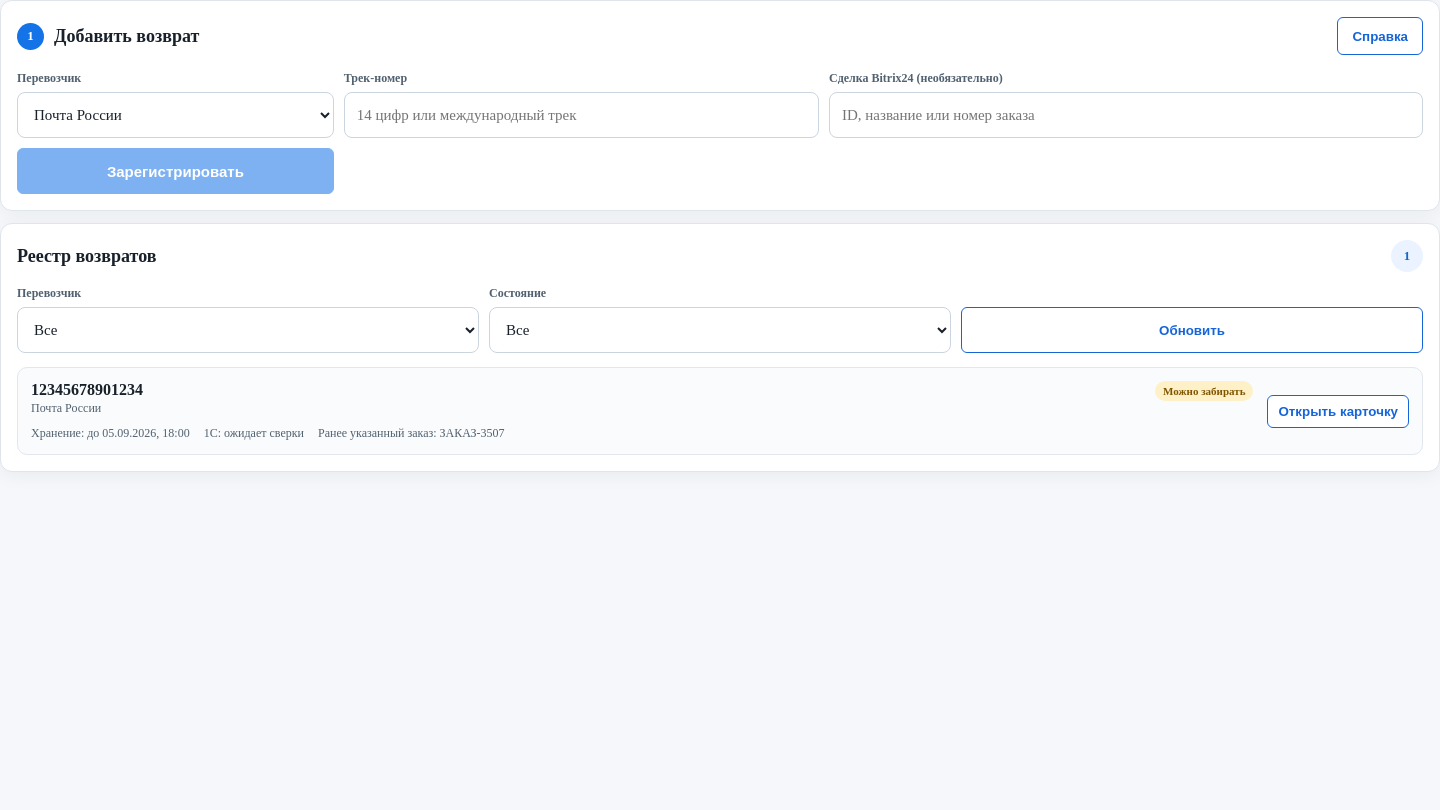
Test: CustomerReturnsWorkspace › открывает карточку поверх реестра и закрывает её по Escape
Click the button "Открыть карточку" at {"x": 1338, "y": 411}, box top-left (1268, 394), bottom-right (1409, 428)
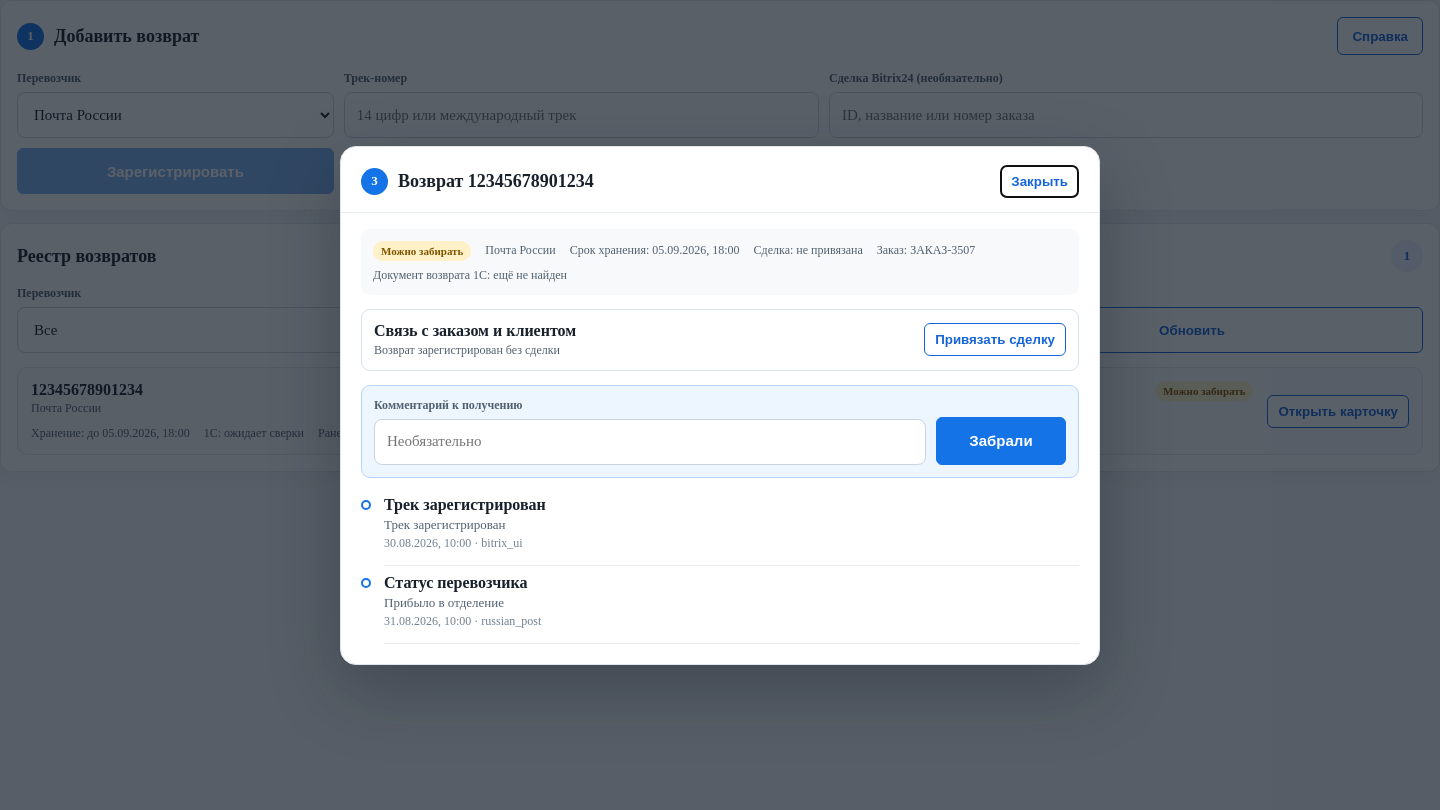
Check: the dialog "Возврат 12345678901234" is shown
Press Escape in the dialog "Возврат 12345678901234", box top-left (340, 146), bottom-right (1100, 664)
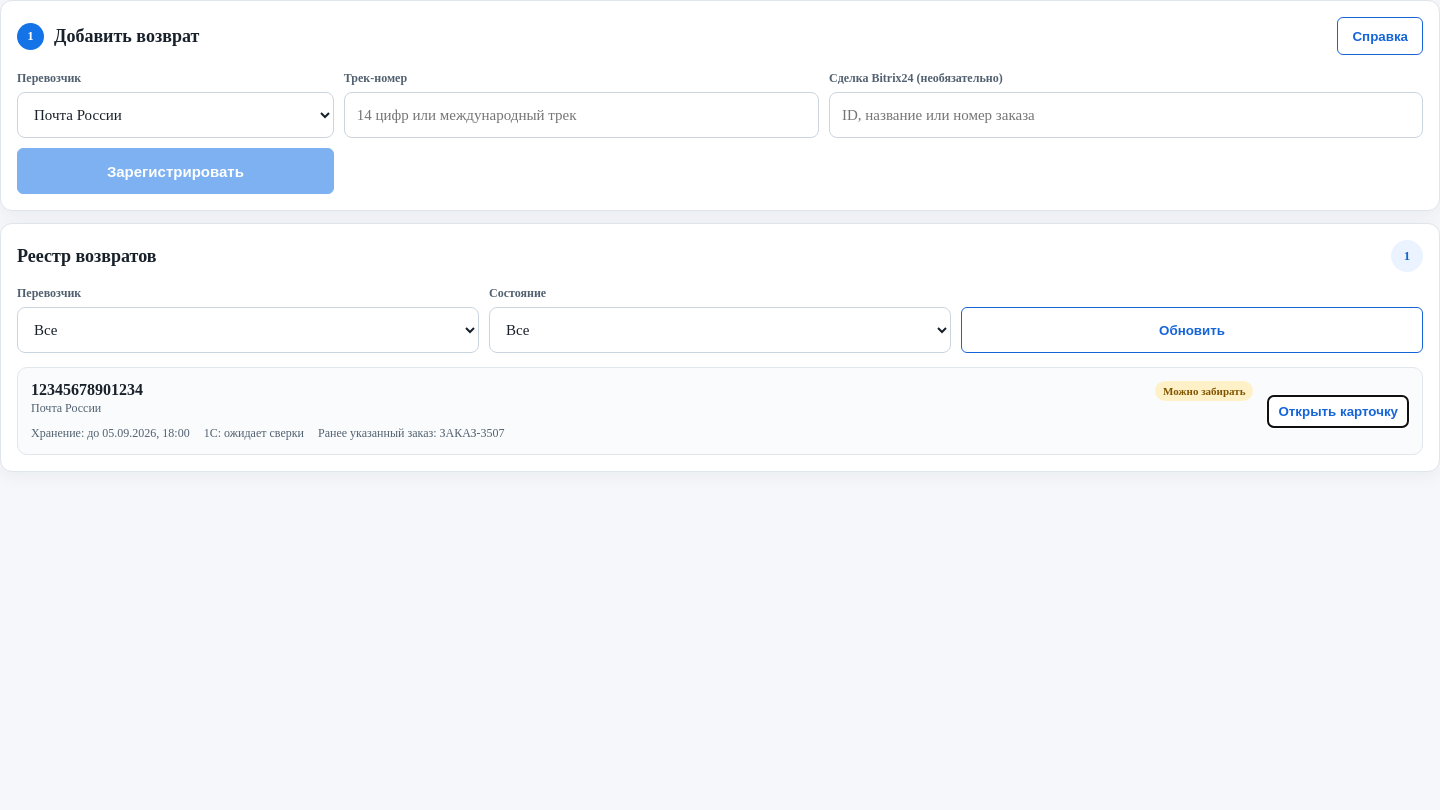
Check: the heading "Возврат 12345678901234" is gone
